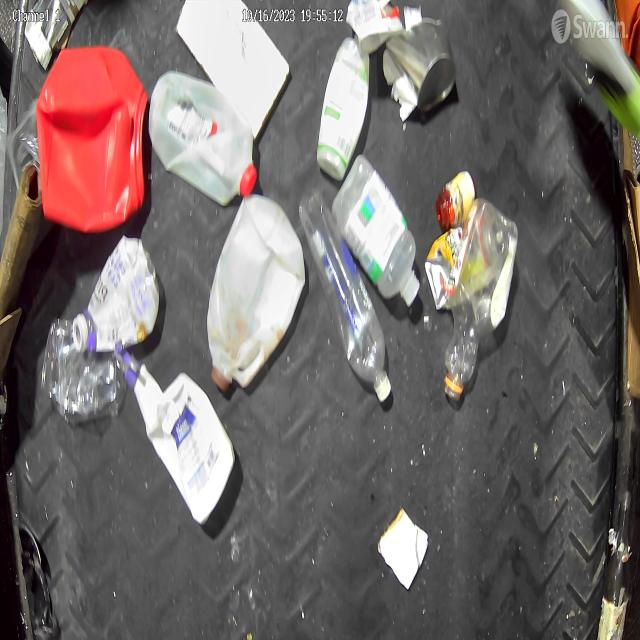can: (381, 15, 456, 116)
milk_jug: (208, 198, 304, 400), (145, 61, 258, 212)
non_white_jug: (36, 39, 147, 240), (116, 335, 234, 521)
plastic_bottle: (300, 186, 394, 399)
